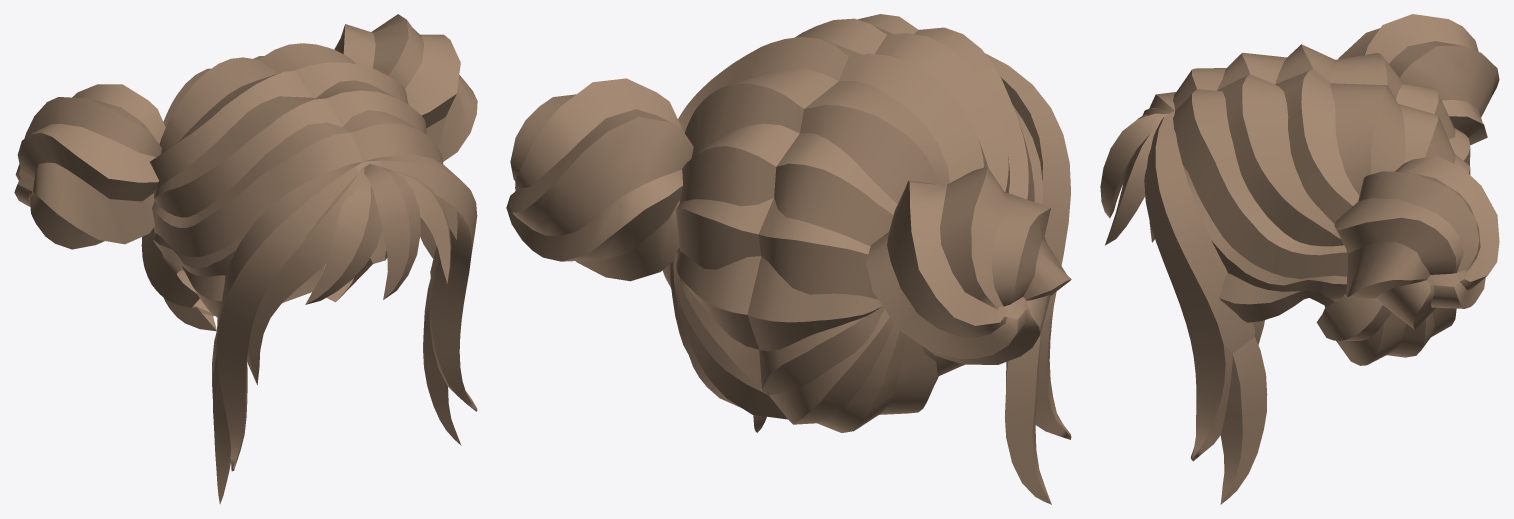
The model's file is quaternius_hair_buns.glb.
3 views of the same model, side by side, from view 1: azimuth 30°, elevation 25°; view 2: azimuth 150°, elevation 25°; view 3: azimuth 270°, elevation 25° (orthographic). The views are drawn at different scales.
Parts seen in each view (by area): view 1: Hair_Buns; view 2: Hair_Buns; view 3: Hair_Buns.
Boxes of the visible parts, x1=… form: Hair_Buns: x1=14, y1=14, x2=477, y2=504; Hair_Buns: x1=506, y1=14, x2=1071, y2=504; Hair_Buns: x1=1100, y1=14, x2=1499, y2=504.
Bounding box in the file's own units: 0.3015 × 0.2491 × 0.2368.
